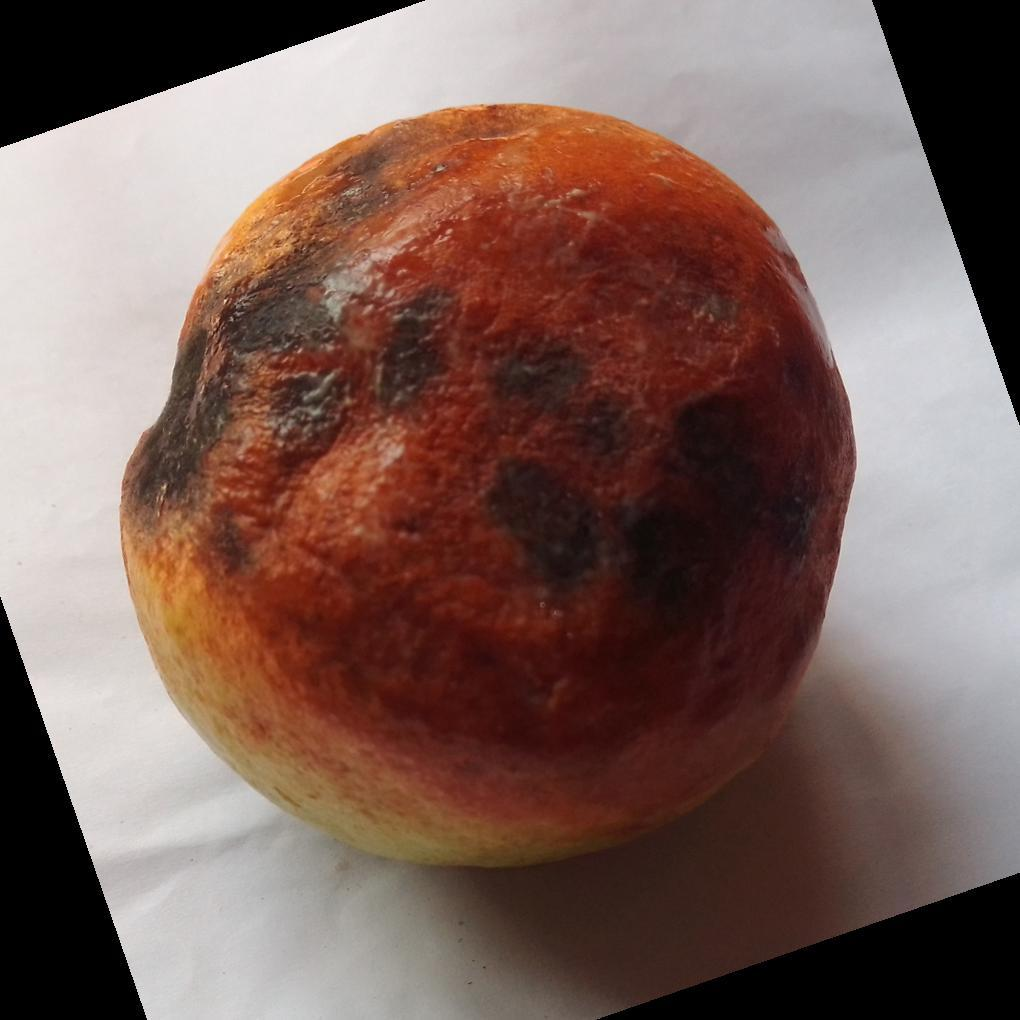FreshOrange: (116, 104, 860, 875)
